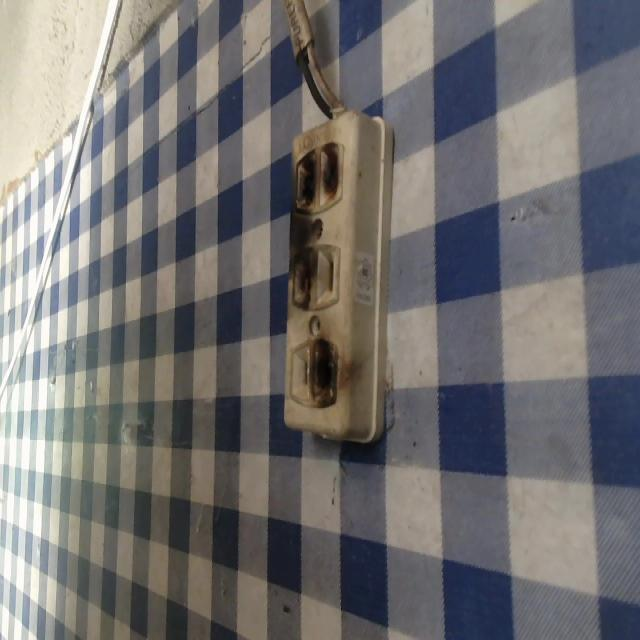-: (289, 134, 352, 218), (276, 234, 320, 318), (308, 329, 347, 422)
